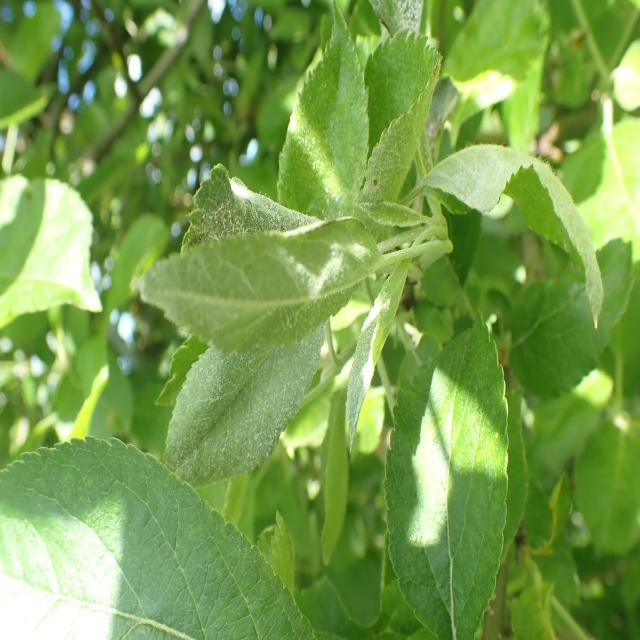Powdery_mildew: (127, 170, 407, 341), (417, 136, 617, 342), (139, 318, 337, 511), (328, 212, 407, 459)
